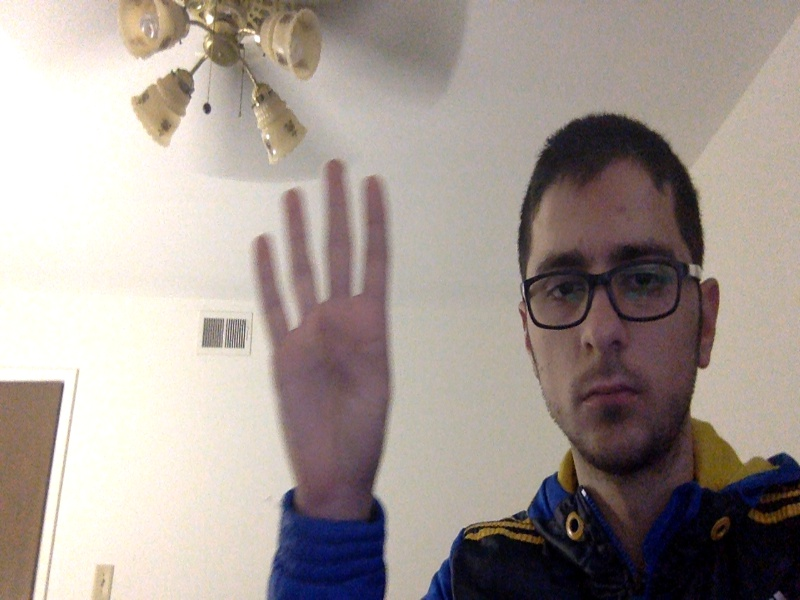4-hand: (253, 161, 394, 496)
